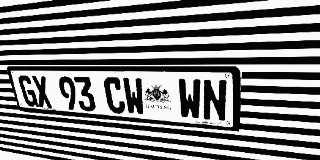3: (73, 76, 96, 112)
9: (57, 76, 80, 110)
C: (103, 77, 126, 114)
G: (17, 75, 39, 107)
N: (202, 79, 227, 122)
W: (177, 78, 202, 120), (122, 77, 146, 116)
X: (31, 76, 53, 108)
